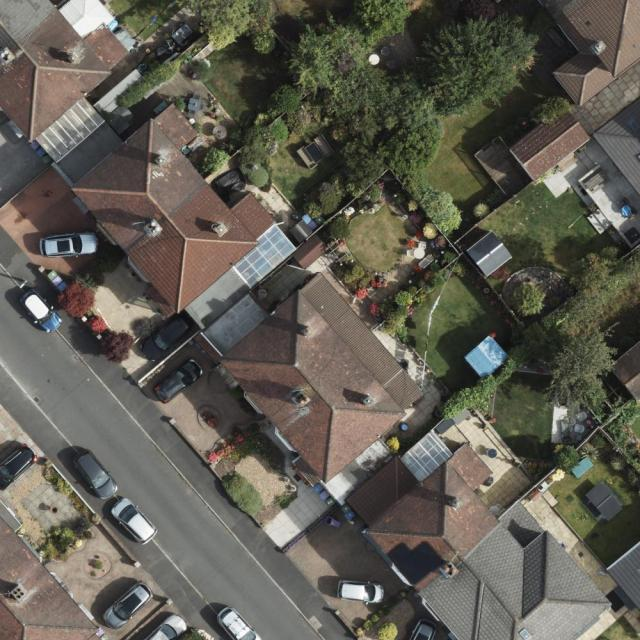roof: (0, 0, 614, 640), (0, 514, 100, 640), (541, 0, 640, 107), (508, 105, 591, 183), (597, 97, 640, 196), (608, 541, 640, 613), (607, 338, 640, 405)
skylight: (34, 97, 108, 163), (231, 224, 296, 289), (397, 427, 453, 482), (519, 627, 532, 640)
